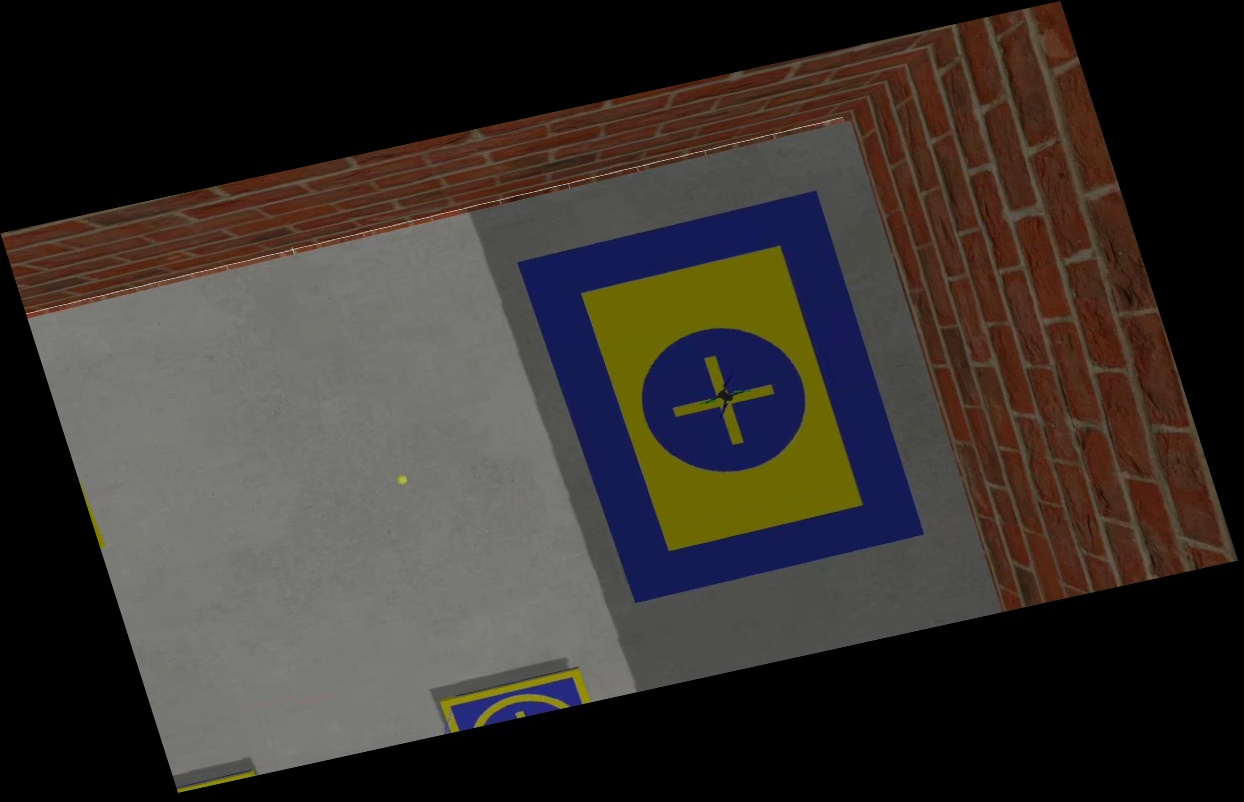large_base: (512, 189, 927, 604)
small_base: (438, 666, 595, 737)
